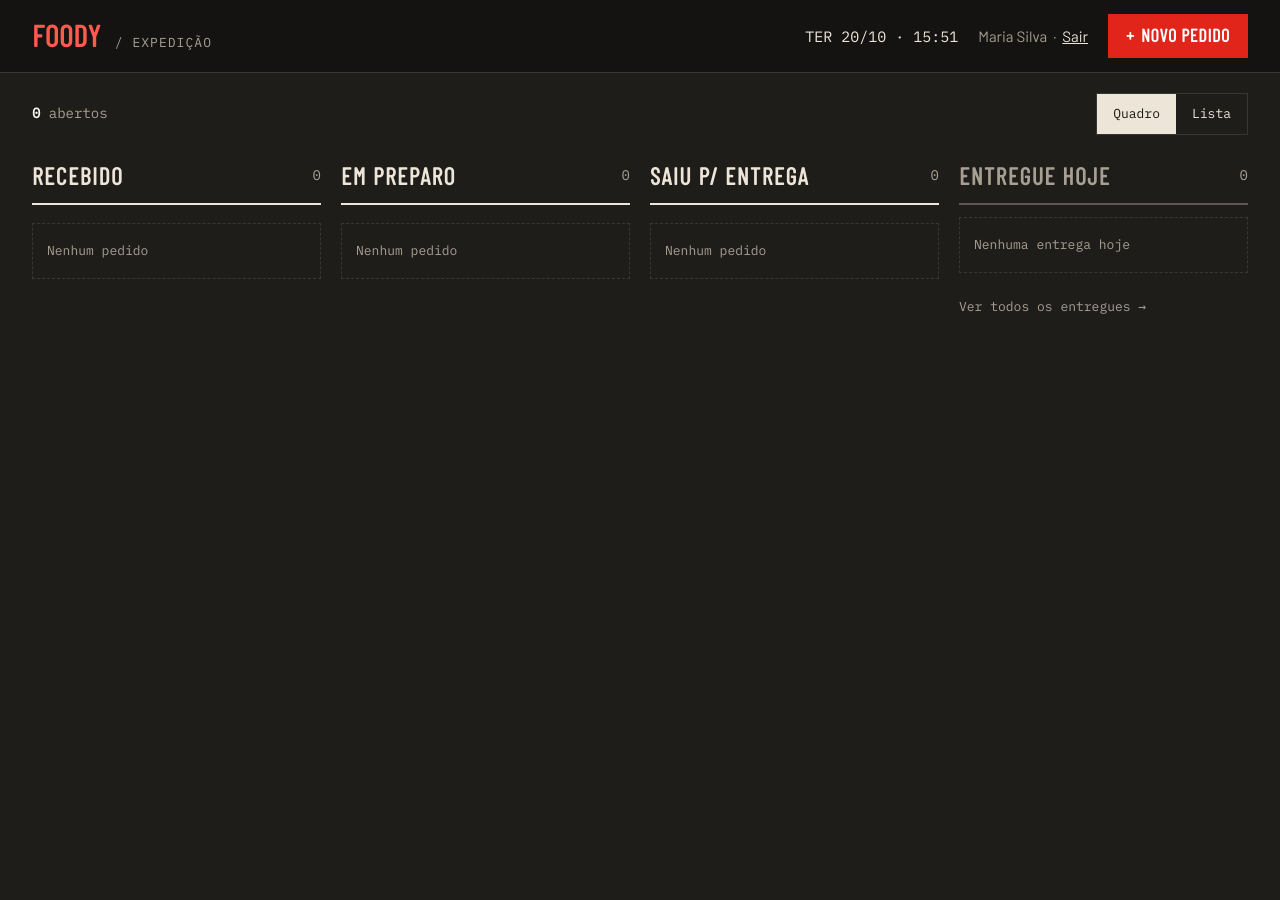
Test case: protected routes › log out from the header, revoking the refresh token
This screenshot has width=1280, height=900.
Click the button "Sair": x=1075, y=36 [1062,14,1088,58]
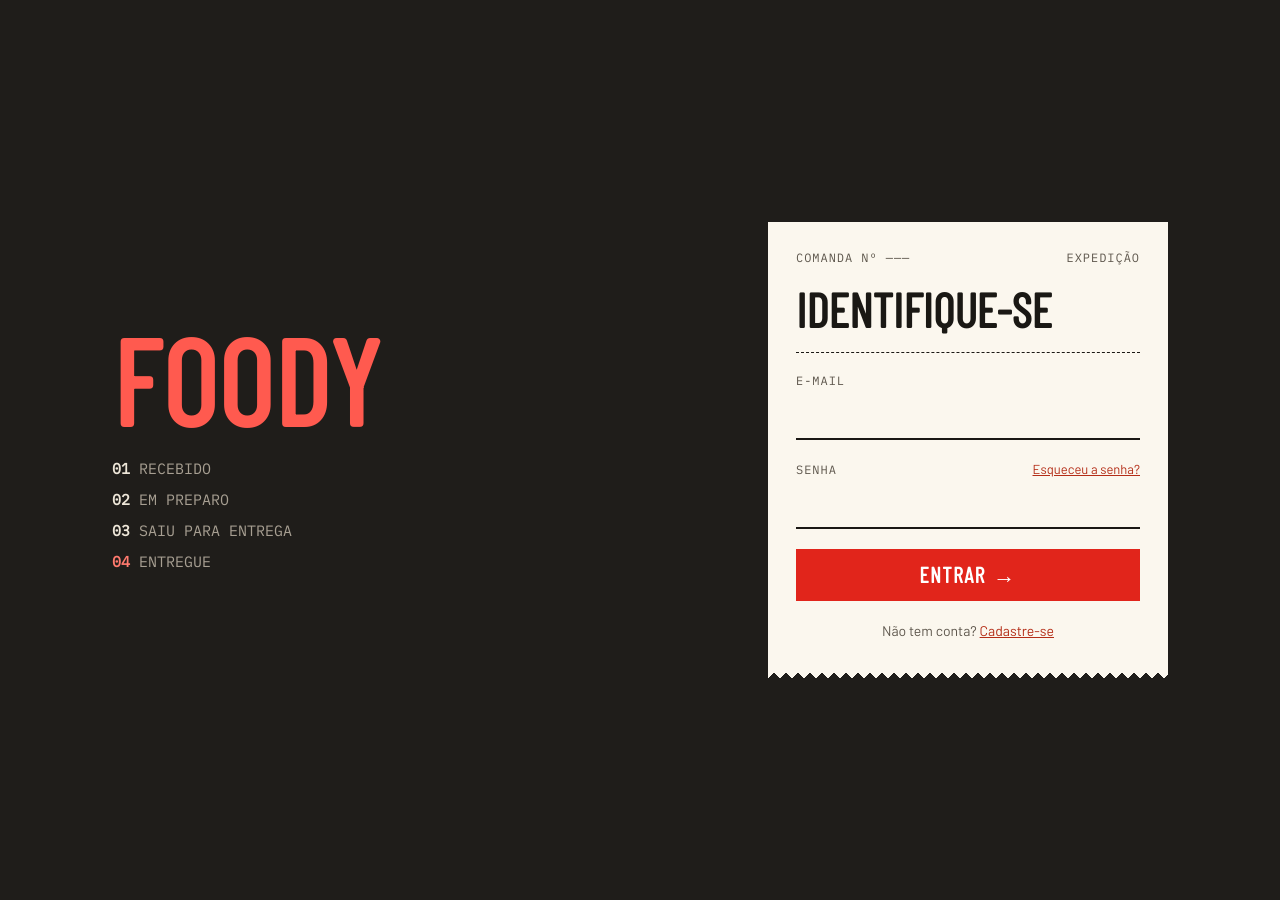
Check: the heading "Identifique-se" is shown, box [796,280,1052,338]
